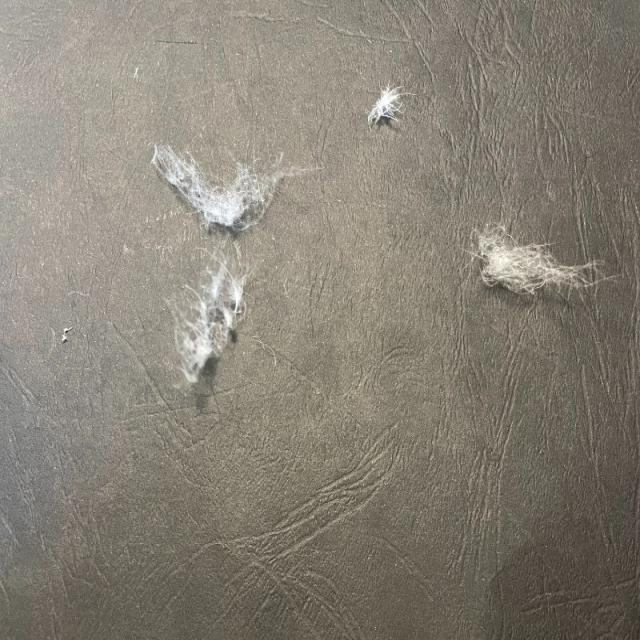feather: (464, 220, 605, 301), (173, 247, 249, 389), (154, 142, 278, 228), (370, 80, 408, 122)
